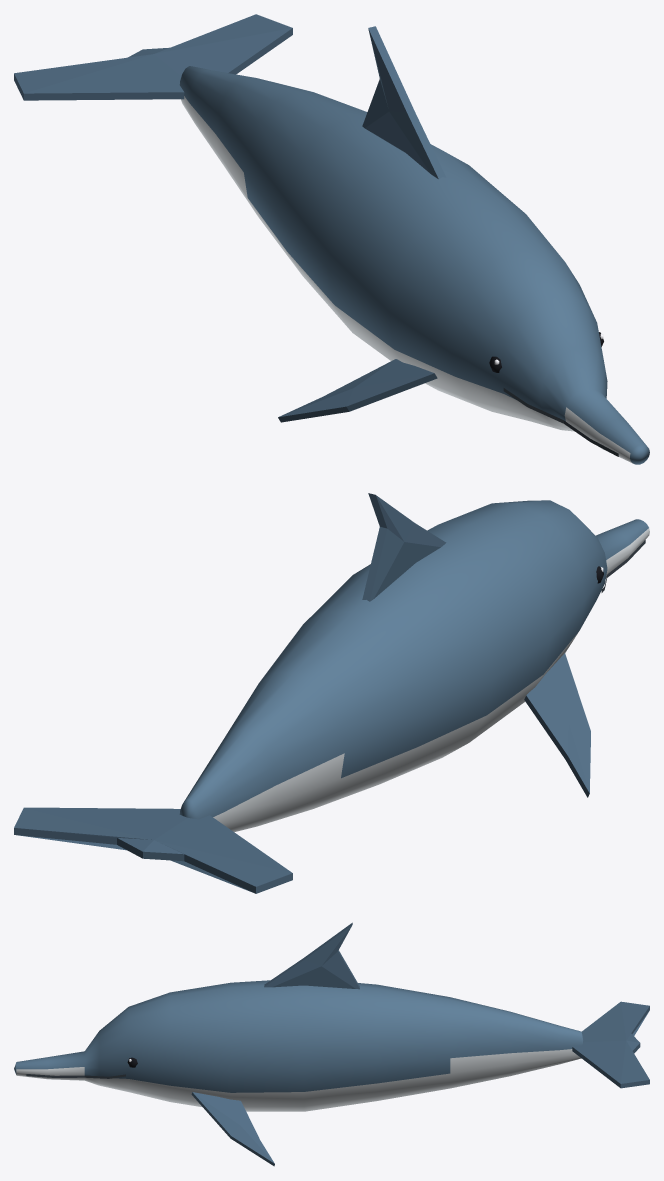
File: dolphin.obj
The picture shows the model from 3 angles, top to bottom: view 1: azimuth 30°, elevation 25°; view 2: azimuth 150°, elevation 25°; view 3: azimuth 270°, elevation 25°; orthographic projection. The views are drawn at different scales.
Visible parts, largest first — view 1: body, fluke, dorsal, pec.R, face; view 2: body, fluke, pec.R, dorsal; view 3: body, fluke, dorsal, pec.L, face.
Boxes of the visible parts, left/top/right/bottom form: body: left=179, top=66, right=649, bottom=464; fluke: left=14, top=14, right=292, bottom=100; dorsal: left=362, top=26, right=446, bottom=179; pec.R: left=278, top=359, right=437, bottom=422; face: left=489, top=332, right=618, bottom=456; body: left=179, top=500, right=649, bottom=831; fluke: left=14, top=807, right=292, bottom=893; pec.R: left=524, top=653, right=590, bottom=797; dorsal: left=362, top=493, right=446, bottom=601; body: left=14, top=980, right=583, bottom=1111; fluke: left=572, top=1001, right=649, bottom=1088; dorsal: left=264, top=922, right=359, bottom=989; pec.L: left=191, top=1092, right=274, bottom=1166; face: left=26, top=1057, right=137, bottom=1078.
Size of the model in its own units: 0.9279 by 0.8877 by 2.61.
1 material, 1 textured.
